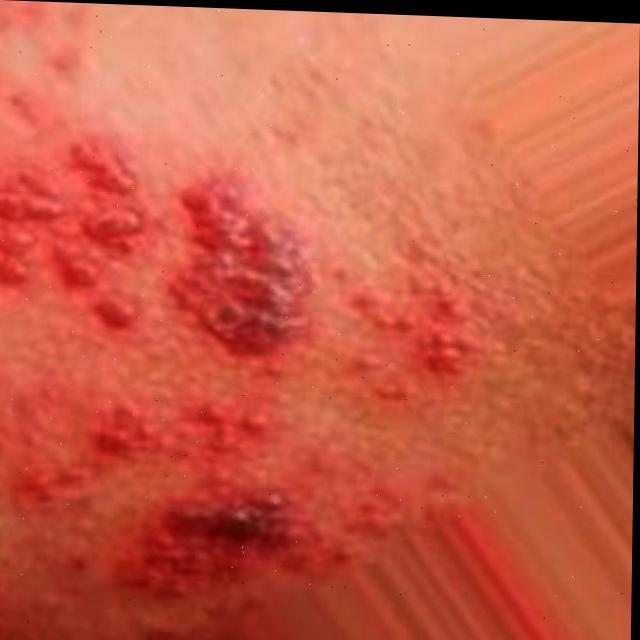Shingles: (0, 1, 488, 627)
